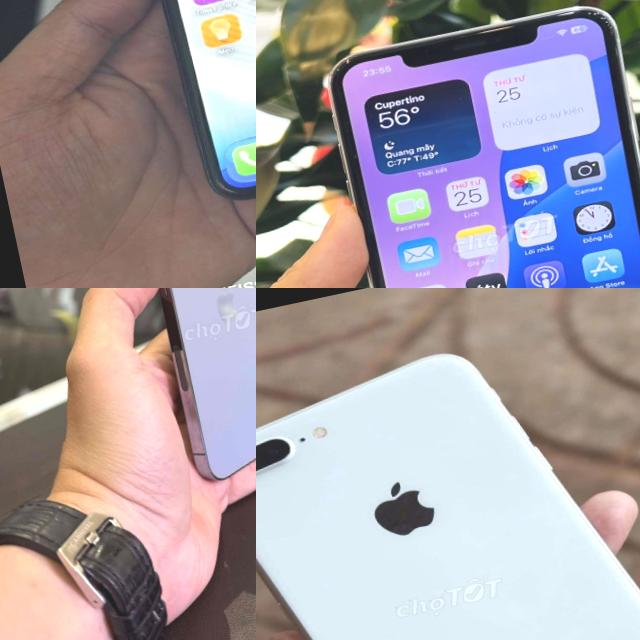scratch: (578, 0, 627, 44), (319, 44, 371, 84)
